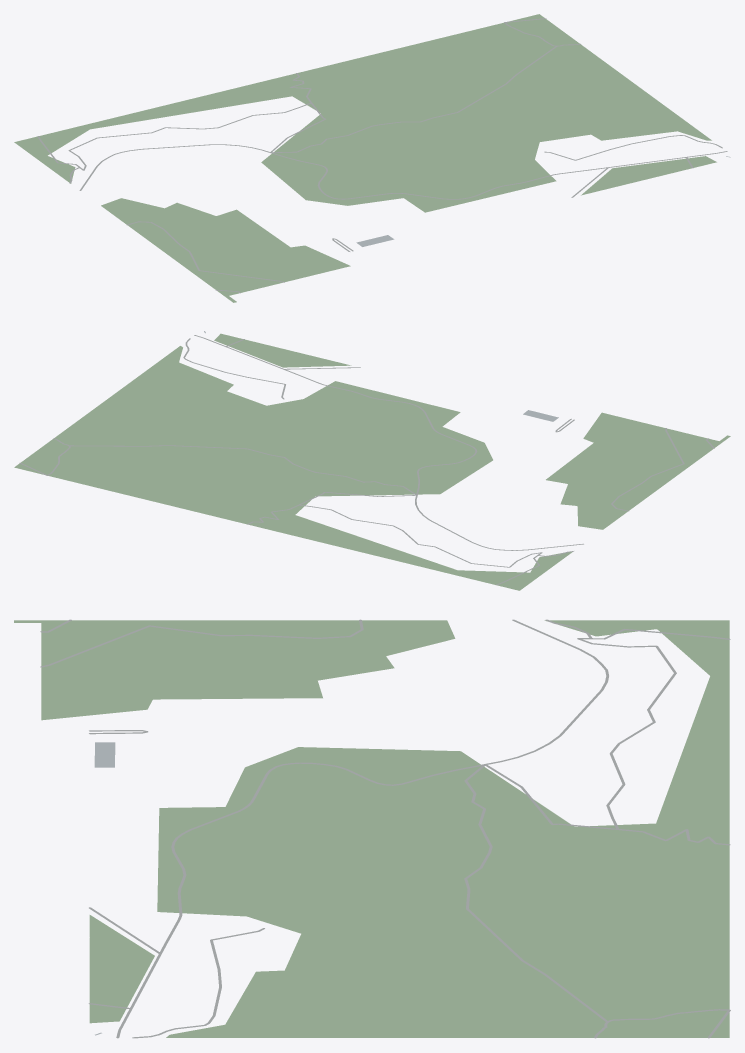
Rendered from 1_4-known-coarse.glb.
3 views of the same model, one above another, from view 1: azimuth 30°, elevation 25°; view 2: azimuth 150°, elevation 25°; view 3: azimuth 270°, elevation 25° (orthographic). The views are drawn at different scales.
Bounding box in the file's own units: 1003 × 0.15 × 725.
